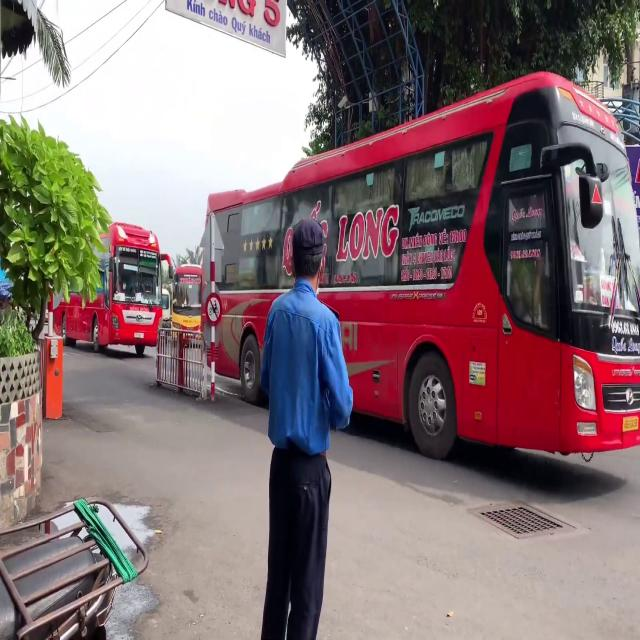bien_vang: (624, 416, 638, 434)
